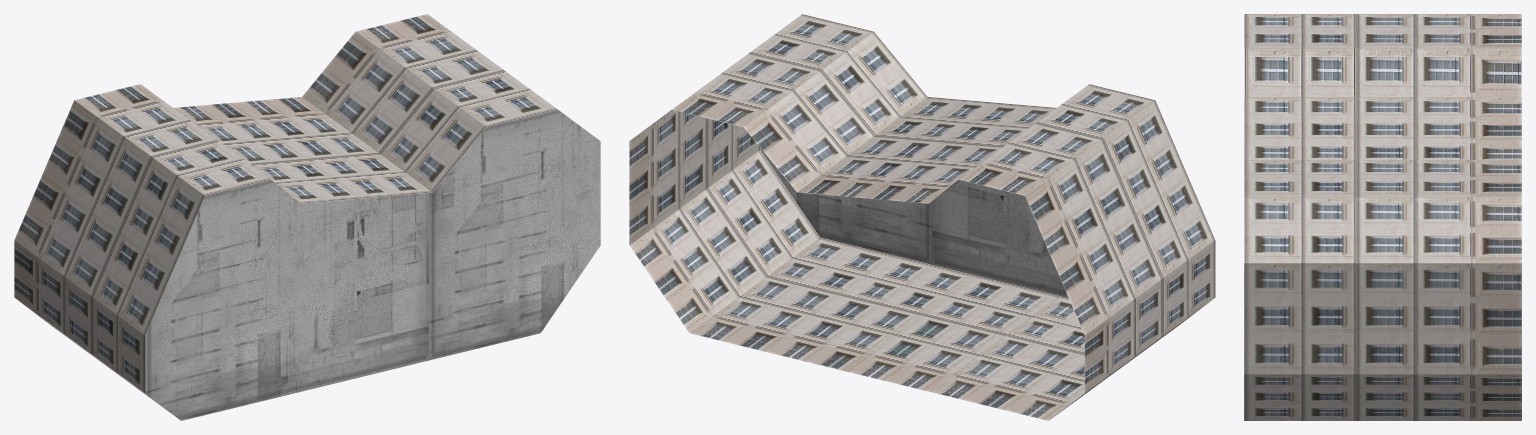
Rendered from building-48.obj.
3 views of the same model, side by side, from view 1: azimuth 30°, elevation 25°; view 2: azimuth 150°, elevation 25°; view 3: azimuth 270°, elevation 25° (orthographic). The views are drawn at different scales.
Bounding box in the file's own units: 22.81 × 10.5 × 11.35.
